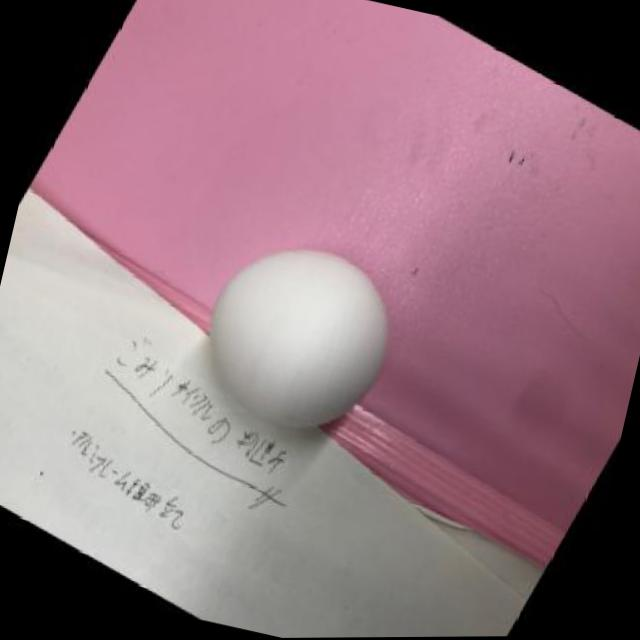egg: (182, 221, 417, 464)
